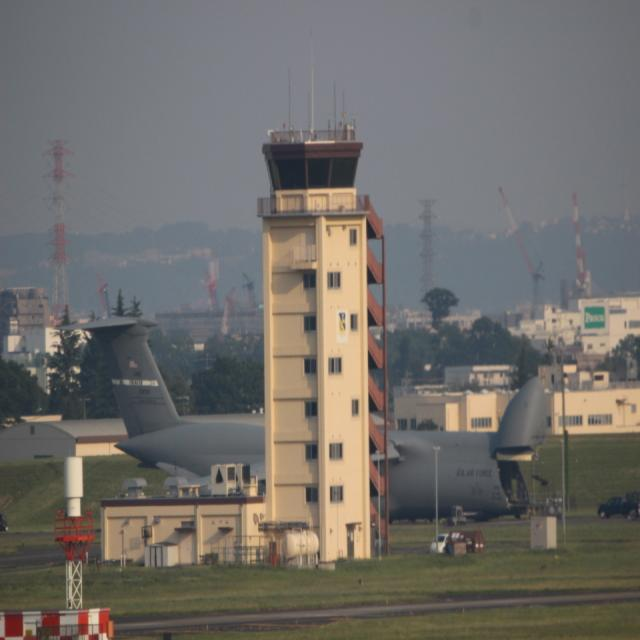MIL_Plane: (48, 316, 543, 522)
